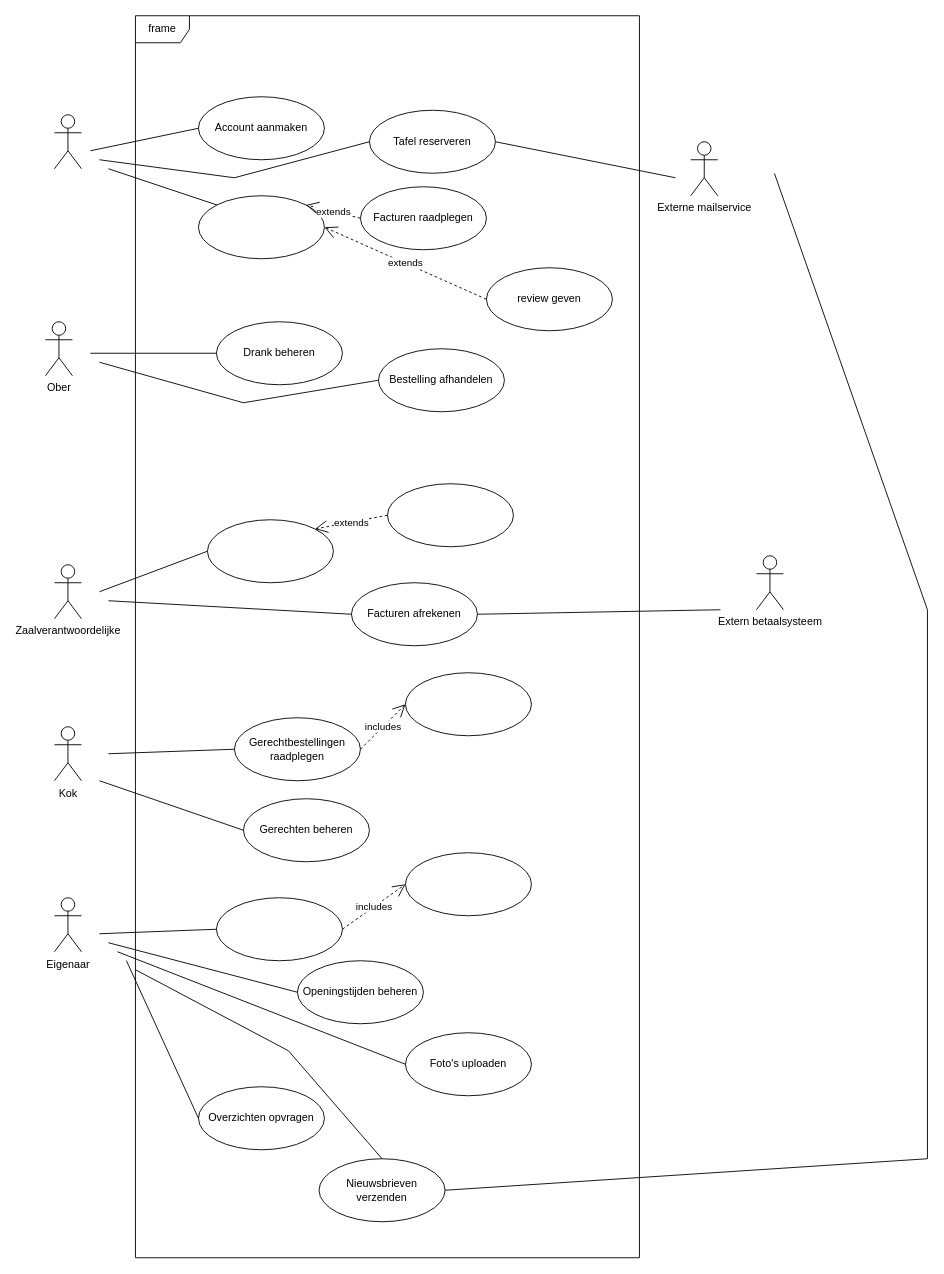
Some shapes in this 944 by 1274 pixel diagram are drawn without their labels. Each missing label, with the centre of its shape:
"Bestelling doorgeven" goes at pixel 261 227.
"Gerechten afhandelen" goes at pixel 468 704.
"Klant" goes at pixel 67 141.
"Medewerkers beheren" goes at pixel 279 929.
"Reservaties opvragen" goes at pixel 450 515.
"rollen beheren" goes at pixel 468 884.
"Tafels toewijzen" goes at pixel 270 551.
